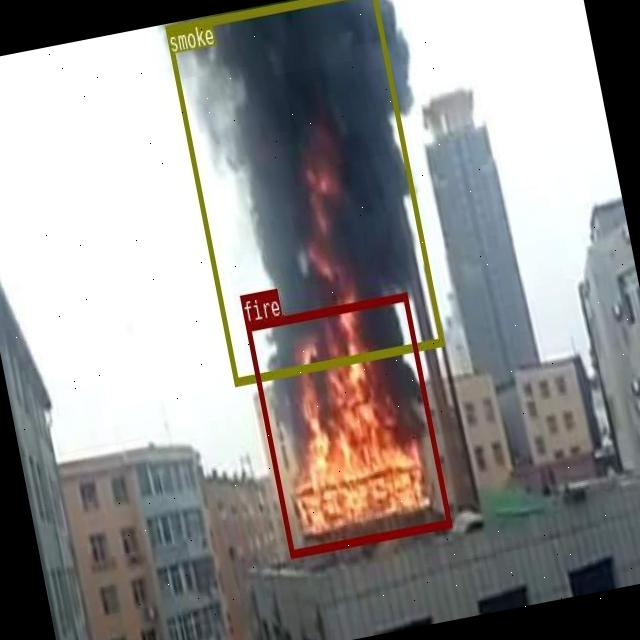fire: (245, 292, 450, 556)
smoke: (164, 0, 444, 385)
